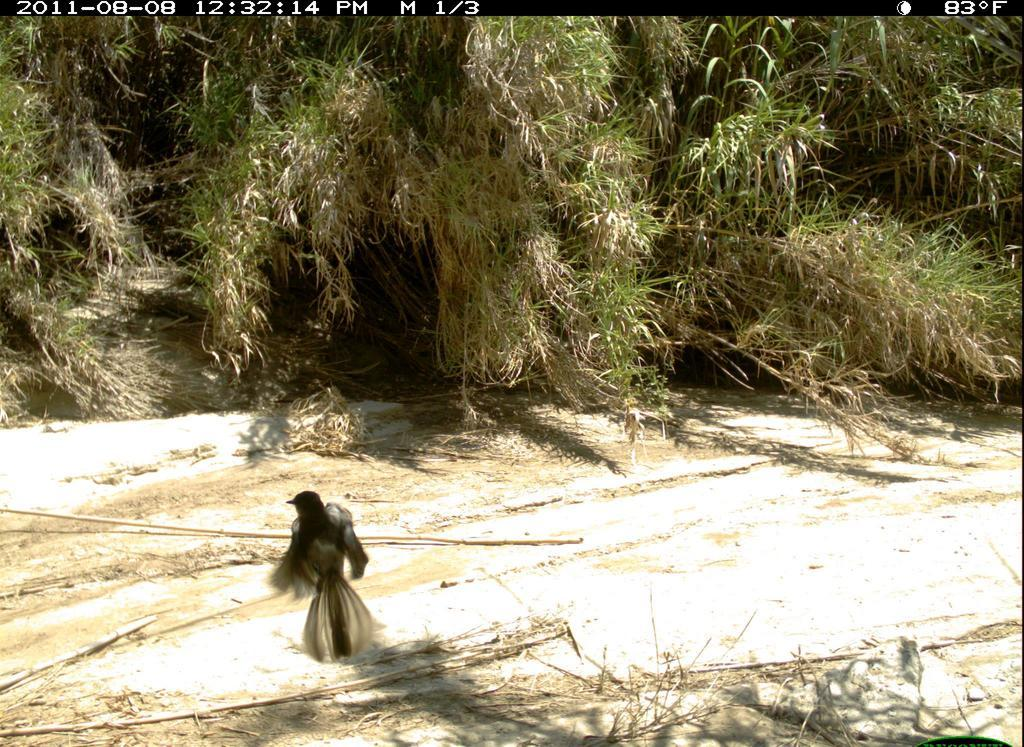bird: (260, 486, 381, 669)
